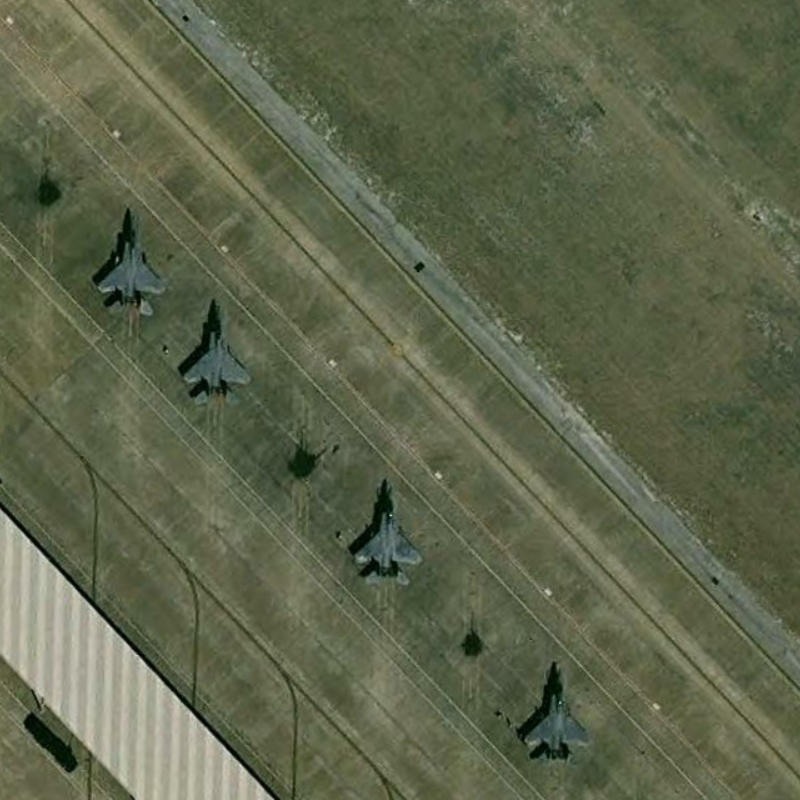A13: (347, 481, 424, 590), (176, 300, 252, 410), (94, 208, 168, 320), (517, 662, 594, 766)
